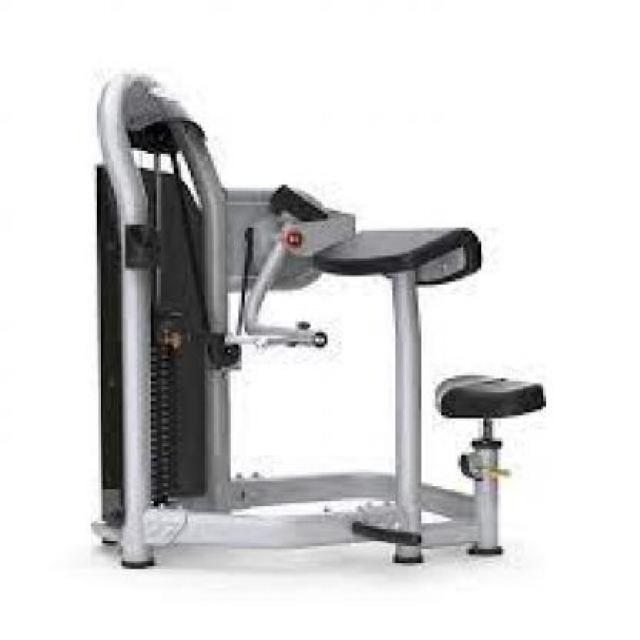arm curl machine: (97, 68, 551, 569)
